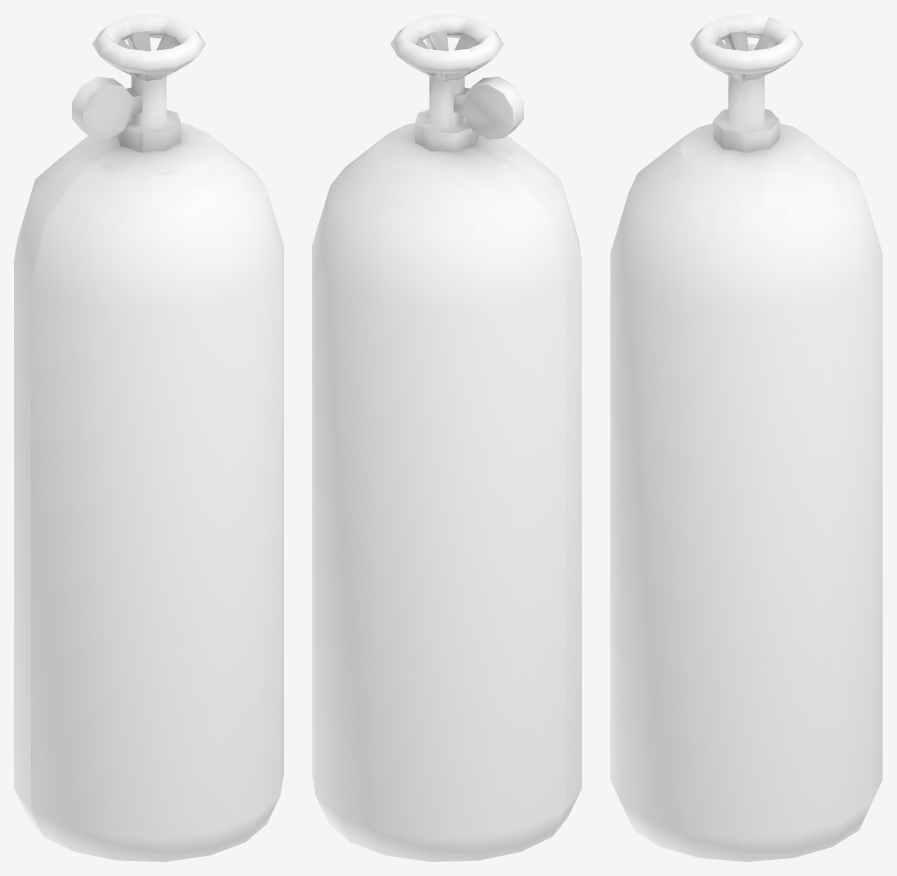
File: GasCannisterTall.glb
3 renders of one model, left to right at view 1: azimuth 30°, elevation 25°; view 2: azimuth 150°, elevation 25°; view 3: azimuth 270°, elevation 25°, orthographic.
Visible parts, largest first — view 1: GasCannisterTall, GasCannisterTall.001; view 2: GasCannisterTall, GasCannisterTall.001; view 3: GasCannisterTall, GasCannisterTall.001.
Part boxes in pixels (x1,y1,x2,y2): GasCannisterTall: [14, 123, 283, 861]; GasCannisterTall.001: [72, 14, 205, 152]; GasCannisterTall: [312, 123, 581, 861]; GasCannisterTall.001: [390, 14, 523, 152]; GasCannisterTall: [610, 123, 882, 861]; GasCannisterTall.001: [689, 14, 803, 152].
Bounding box in the file's own units: 0.3641 × 1.17 × 0.3641.
Materials: 1 (1 with a texture image).
